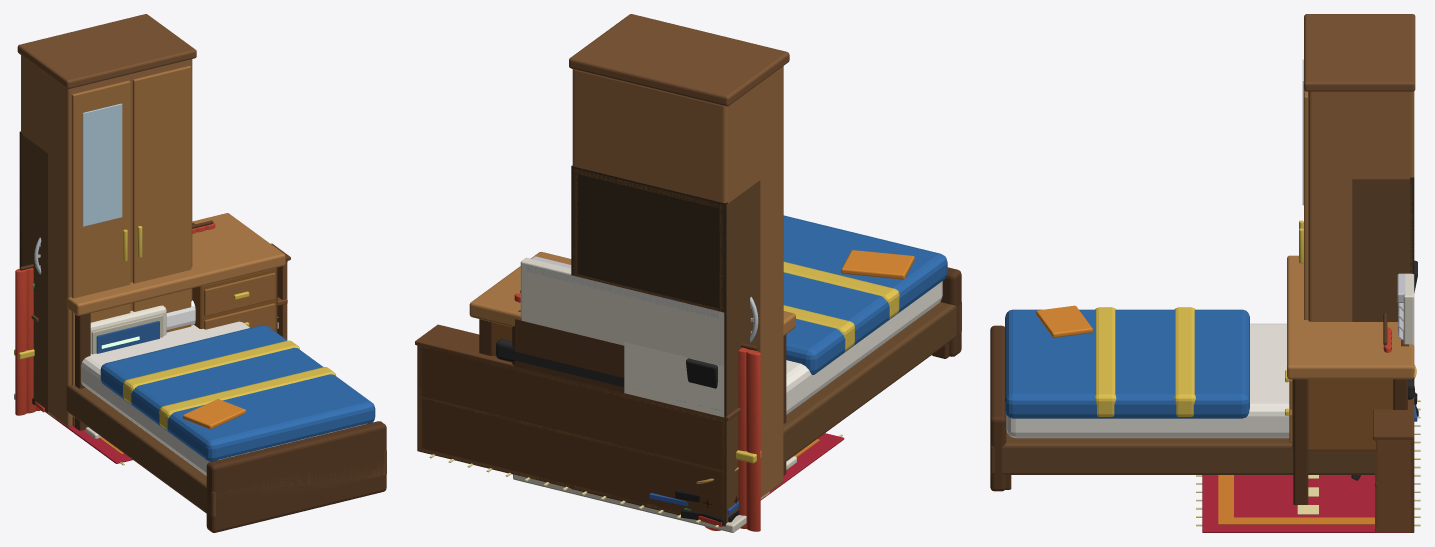
File: kamar.glb
3 renders of one model, left to right at view 1: azimuth 30°, elevation 25°; view 2: azimuth 150°, elevation 25°; view 3: azimuth 270°, elevation 25°, orthographic. The views are drawn at different scales.
Parts seen in each view (by area): view 1: kasur, lemari, meja, rakbuku, w_jendela, komputer, w_rakvcd, karpet; view 2: lemari, w_rakvcd, kasur, rakbuku, w_kerai, w_jendela, w_ring, meja, keyboard, karpet, skate; view 3: kasur, lemari, meja, karpet, rakbuku, w_rakvcd, w_kerai.
Boxes of the visible parts, x1,y1,x2,y2 form: kasur: (66,222,386,532); lemari: (17,14,196,426); meja: (66,213,285,430); rakbuku: (19,131,47,412); w_jendela: (14,220,215,415); komputer: (85,305,166,438); w_rakvcd: (31,243,290,339); karpet: (45,411,132,465); lemari: (569,14,789,497); w_rakvcd: (415,324,740,525); kasur: (512,215,961,462); rakbuku: (571,165,760,526); w_kerai: (520,256,724,366); w_jendela: (513,290,761,532); w_ring: (624,342,724,417); meja: (469,252,795,475); keyboard: (496,338,715,409); karpet: (429,433,844,527); skate: (686,358,717,388); kasur: (990,305,1414,491); lemari: (1299,14,1415,321); meja: (1285,255,1414,505); karpet: (1196,400,1420,532); rakbuku: (1352,177,1414,321); w_rakvcd: (1373,396,1414,532); w_kerai: (1397,273,1414,344).
Bounding box in the file's own units: 6.44 × 8.25 × 8.12.
